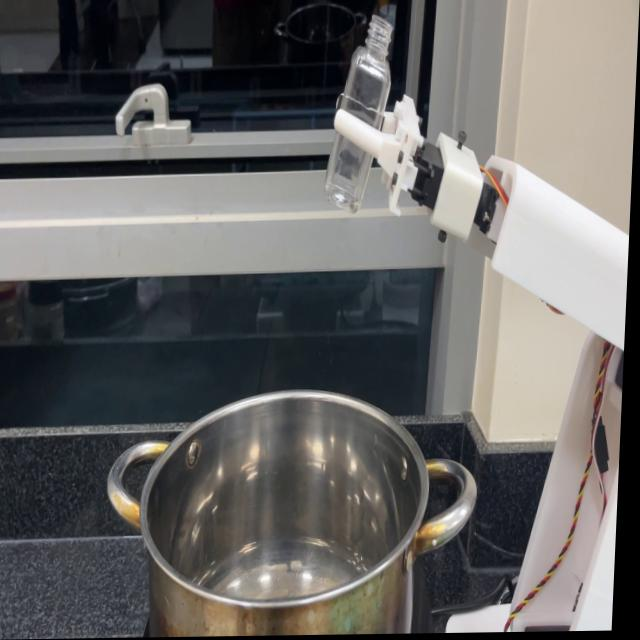cooking_pot: (113, 412, 483, 638)
